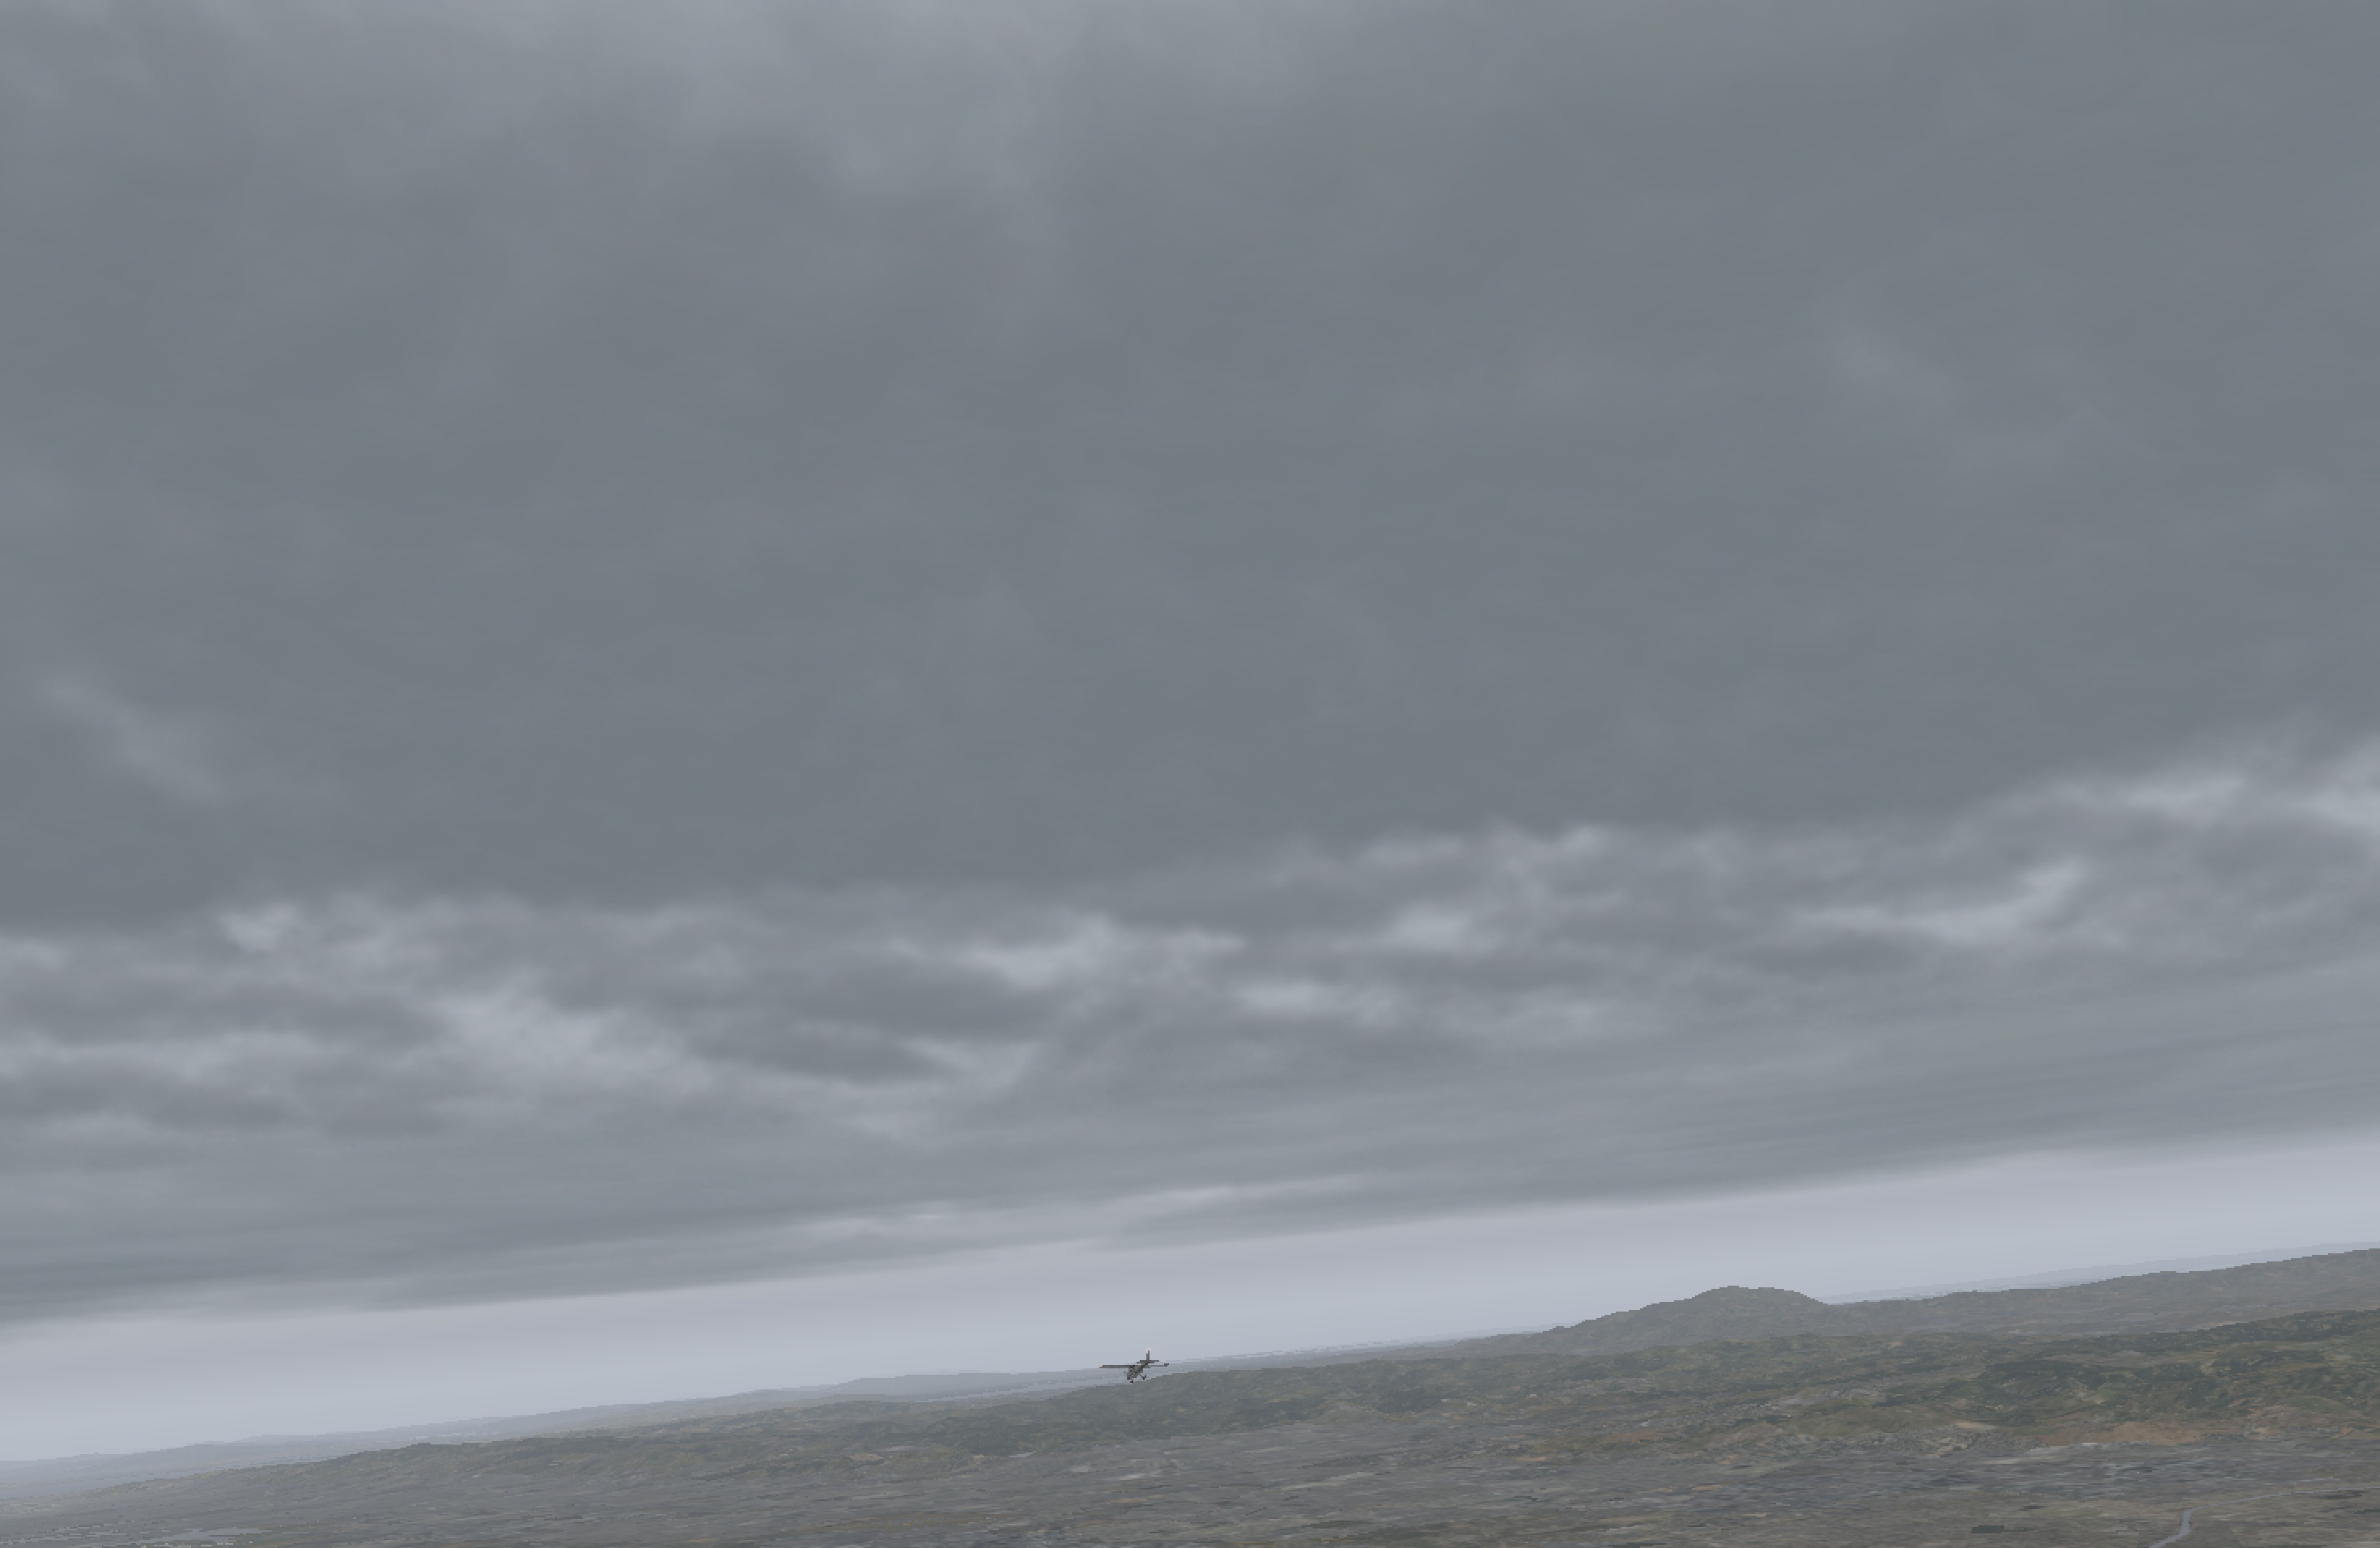aircraft: (1108, 1361, 1161, 1381)
